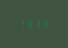eight: (26, 20, 33, 28), (42, 19, 49, 27)
seven: (18, 20, 25, 28)
three: (34, 19, 41, 27)
